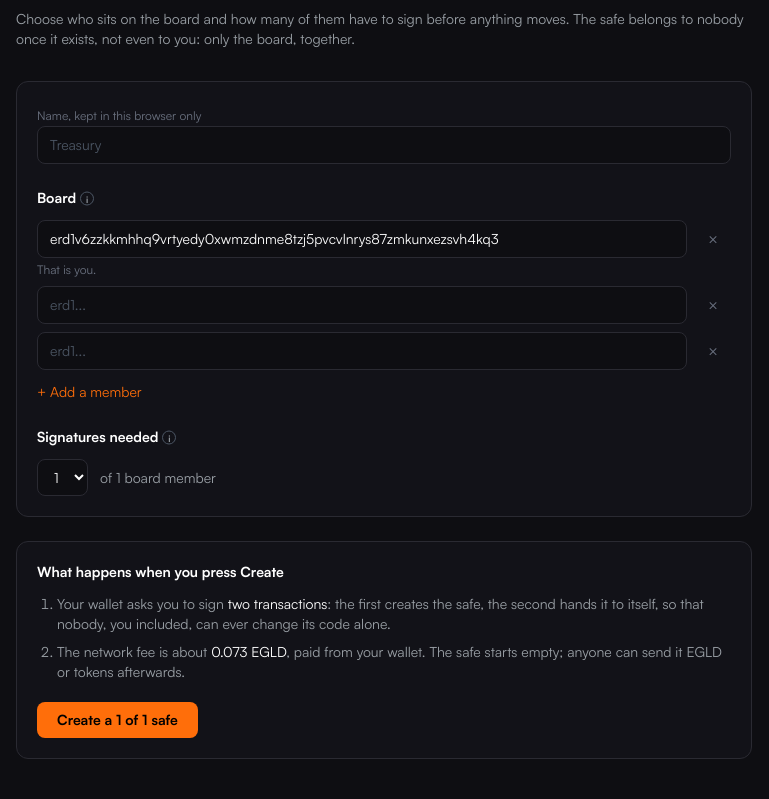
Test case: control: a refused deploy saves nothing and stays on the page with the reason
(page scrolled)
Click the button "Create a 1 of 1 safe" at {"x": 117, "y": 720}, box x1=37 y1=702 x2=198 y2=738
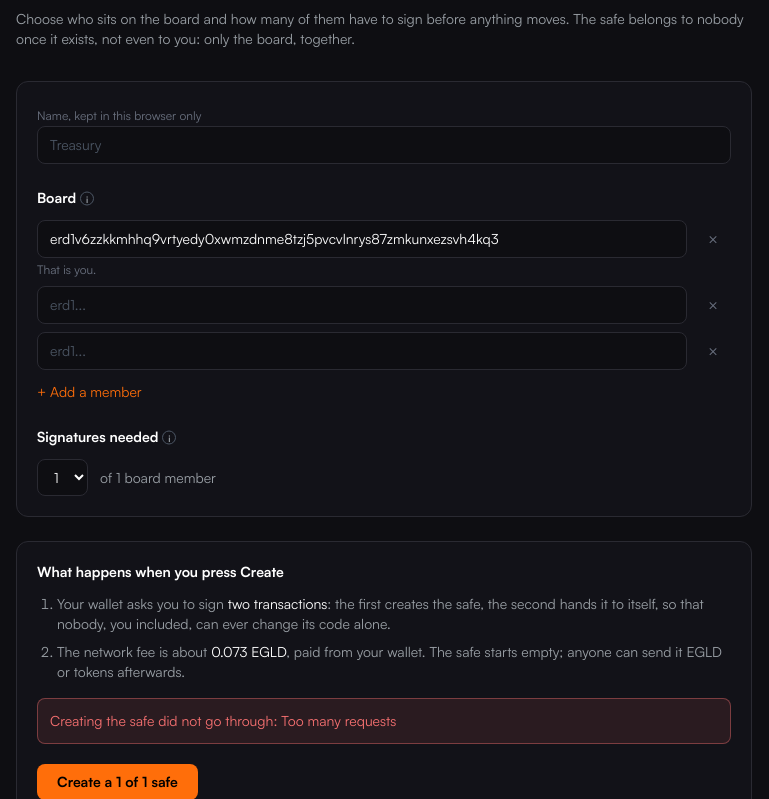
Now the text "Creating the safe did not go through: Too many requests" is shown, box x1=37 y1=698 x2=731 y2=744
